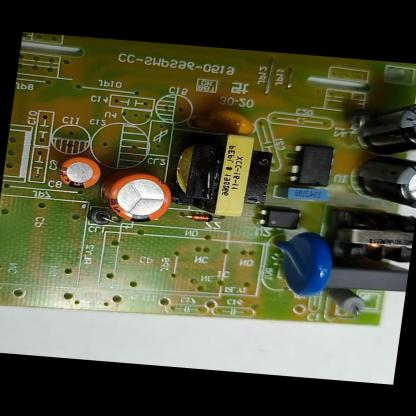Cap1: (94, 169, 177, 226)
Cap2: (53, 153, 106, 191)
Cap3: (350, 150, 416, 210)
Cap4: (348, 94, 416, 157)
MOSFET: (286, 141, 340, 190)
Mov: (262, 227, 341, 301)
Resistor: (328, 289, 367, 319)
Transformer: (167, 128, 279, 223), (320, 205, 415, 267)
